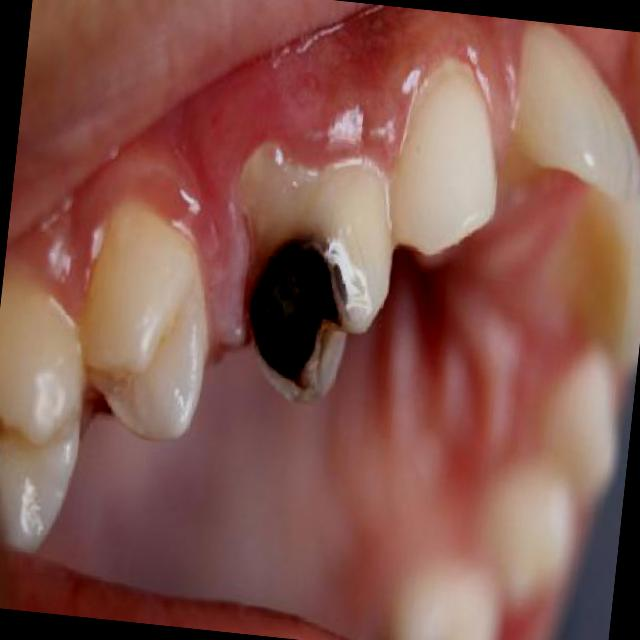caries: (218, 142, 406, 416), (0, 266, 98, 559)
